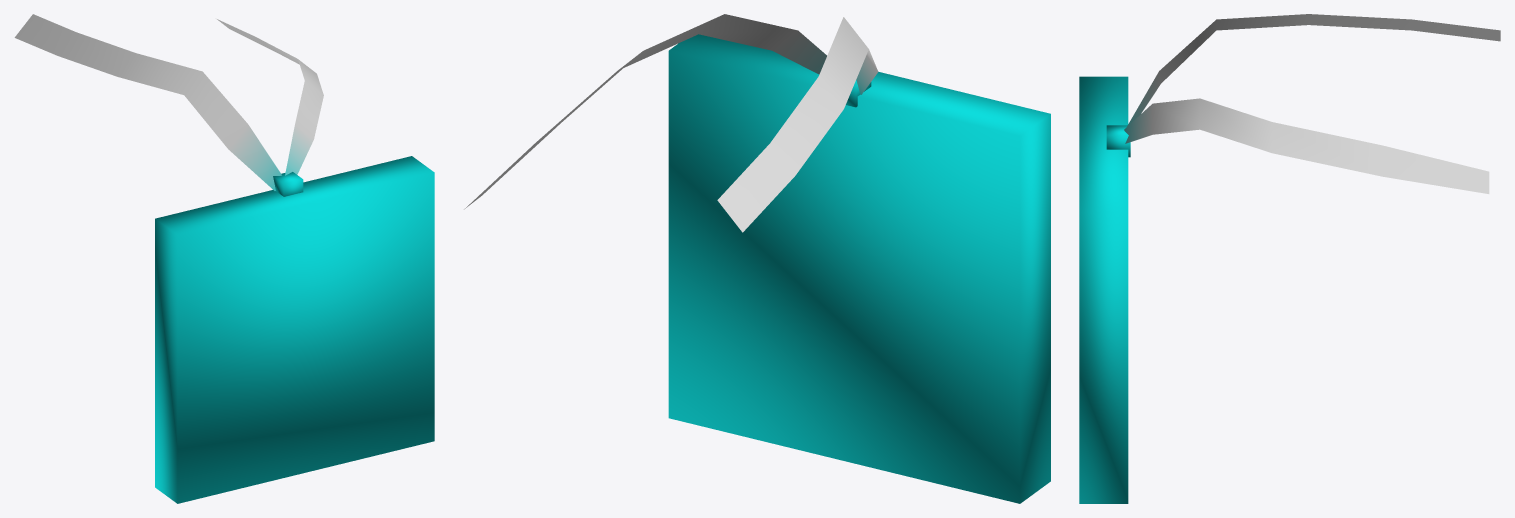
File: Ninja Headband.dae
3 views of the same model, side by side, from view 1: azimuth 30°, elevation 25°; view 2: azimuth 150°, elevation 25°; view 3: azimuth 270°, elevation 25° (orthographic). The views are drawn at different scales.
Visible parts, largest first — view 1: Ninja Headband; view 2: Ninja Headband; view 3: Ninja Headband.
Part boxes in pixels (bbox=[...]): Ninja Headband: bbox=[14, 14, 434, 503]; Ninja Headband: bbox=[464, 14, 1050, 503]; Ninja Headband: bbox=[1079, 14, 1500, 503].
Bounding box in the file's own units: 0.5782 × 0.7571 × 0.7842.
